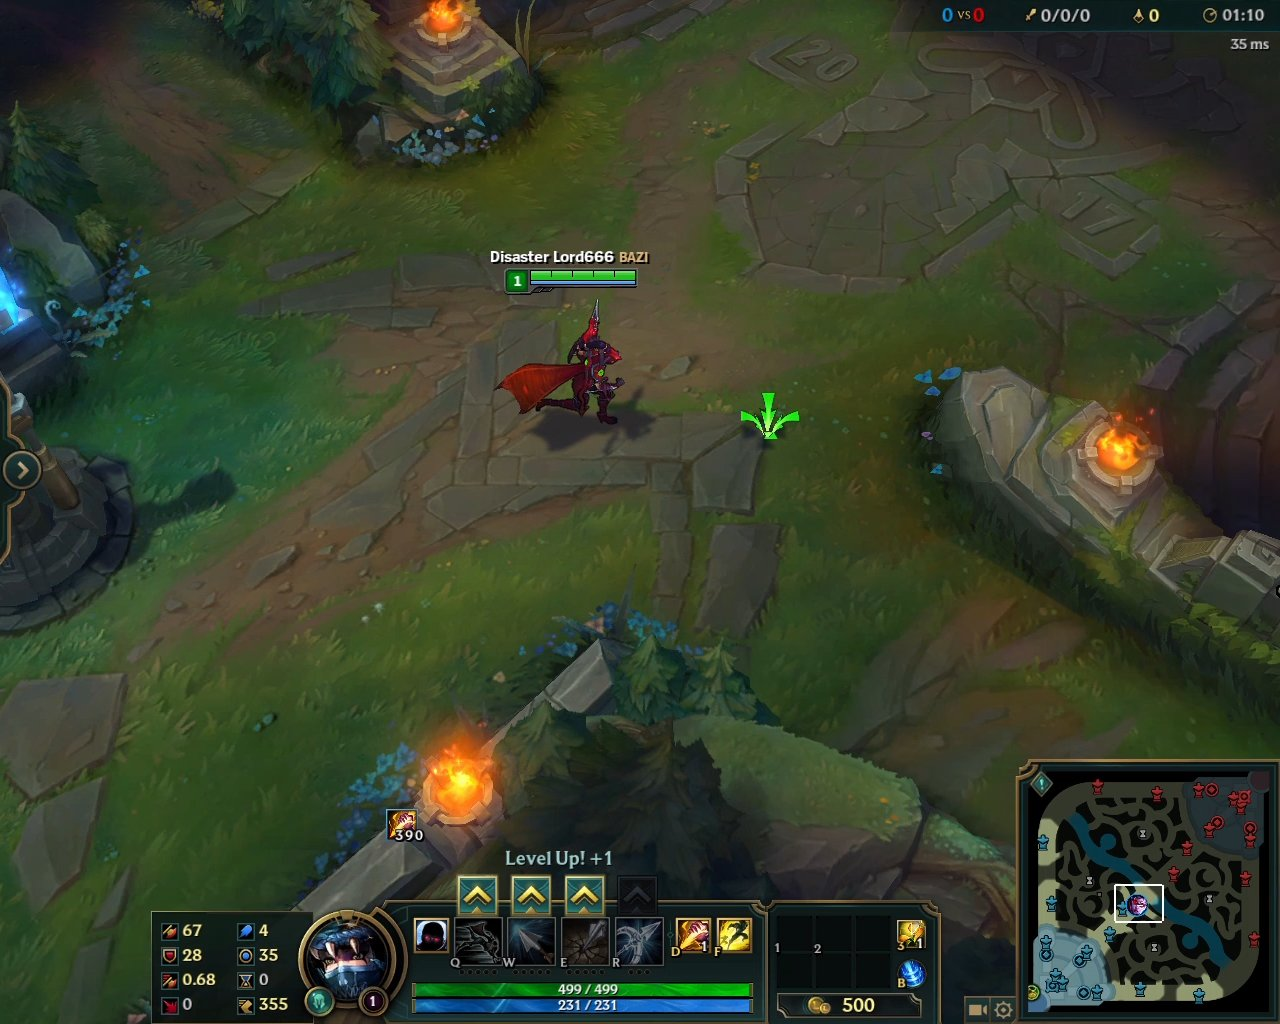Vayne: (486, 296, 630, 429)
